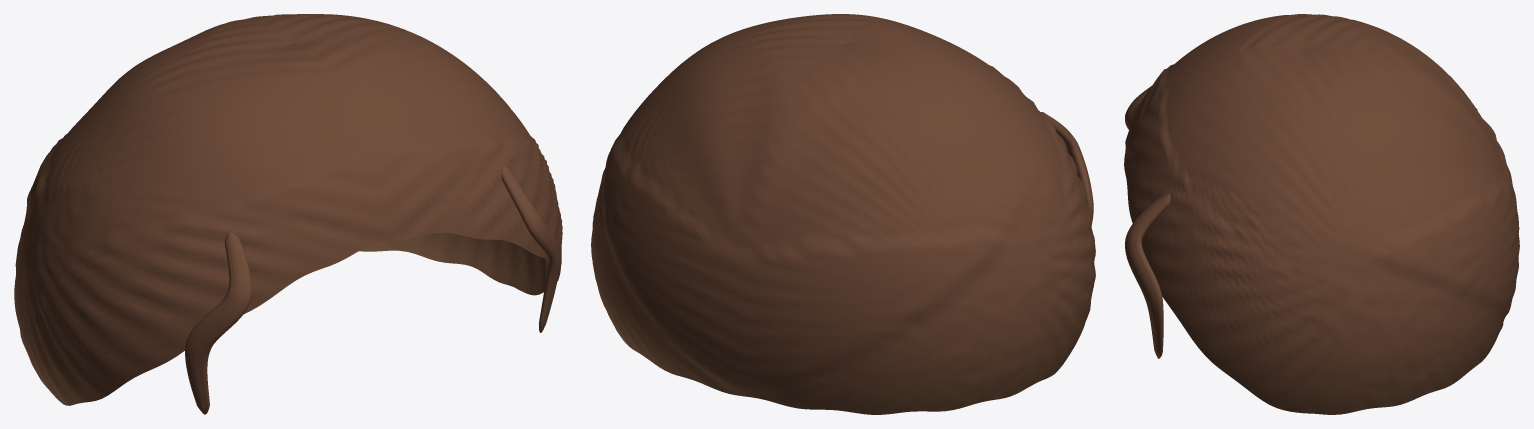
The model's file is Ombre-78e22c5b71cb253-hair.glb.
3 renders of one model, left to right at view 1: azimuth 30°, elevation 25°; view 2: azimuth 150°, elevation 25°; view 3: azimuth 270°, elevation 25°, orthographic. The views are drawn at different scales.
Visible parts, largest first — view 1: 226 hair / Hair / chestnut226.002; view 2: 226 hair / Hair / chestnut226.002; view 3: 226 hair / Hair / chestnut226.002.
Part boxes in pixels (x1,y1,x2,y2): 226 hair / Hair / chestnut226.002: (14, 14, 562, 414); 226 hair / Hair / chestnut226.002: (591, 14, 1095, 414); 226 hair / Hair / chestnut226.002: (1124, 14, 1519, 414).
Bounding box in the file's own units: 0.9981 × 0.5988 × 0.7846.
Materials: 1 (1 with a texture image).
